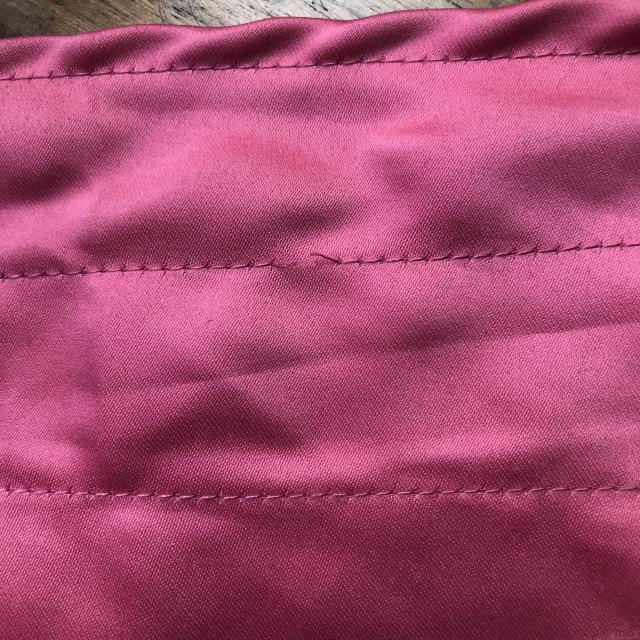broken: (258, 239, 360, 282)
good: (214, 480, 392, 510)
